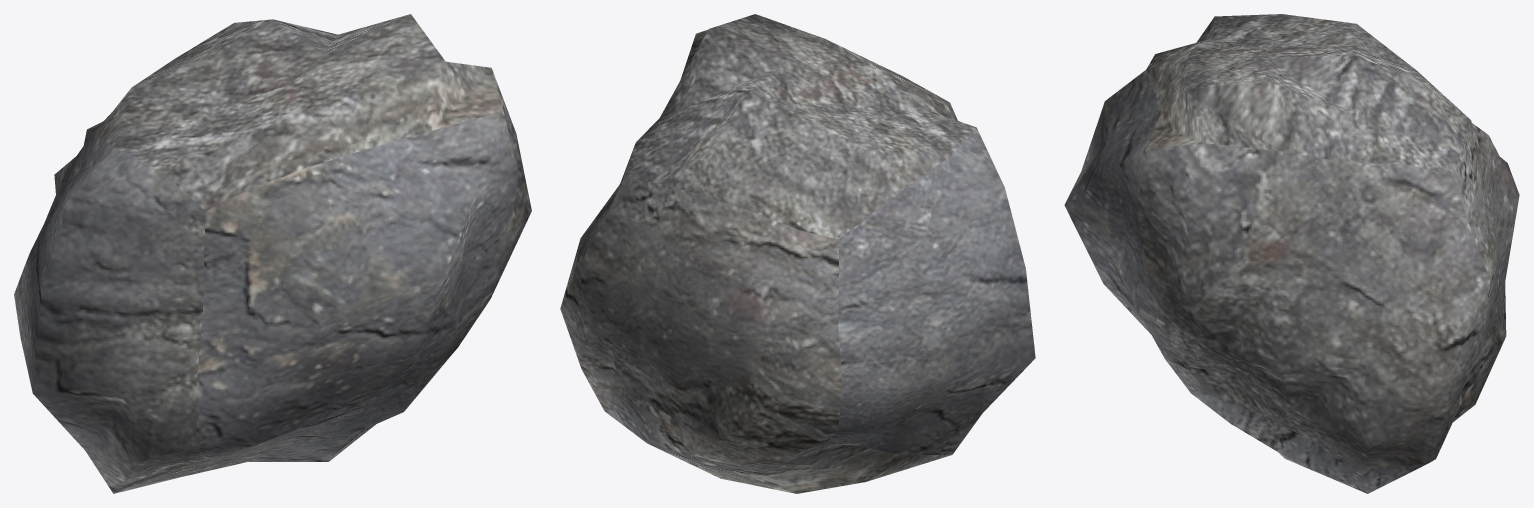
File: japanese_rock_01.FBX
3 views of the same model, side by side, from view 1: azimuth 30°, elevation 25°; view 2: azimuth 150°, elevation 25°; view 3: azimuth 270°, elevation 25° (orthographic). The views are drawn at different scales.
Parts seen in each view (by area): view 1: rock_01; view 2: rock_01; view 3: rock_01.
Boxes of the visible parts, x1,y1,x2,y2 form: rock_01: (14,14,531,493); rock_01: (560,14,1035,493); rock_01: (1064,14,1519,493).
Size of the model in its own units: 115 by 111 by 106.
